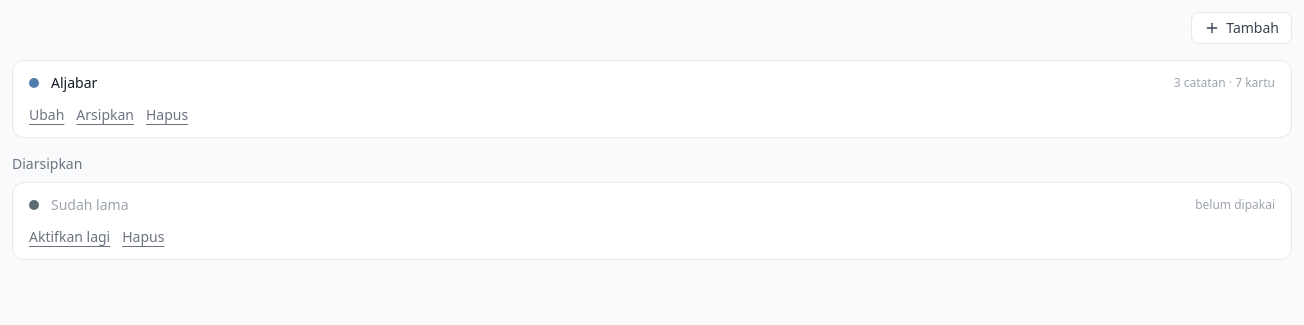
it: CategorySettings › surfaces the server refusal when a category is still in use
Click the button "Hapus" below "Aljabar" at x=167, y=115, box top-left (146, 105), bottom-right (188, 125)
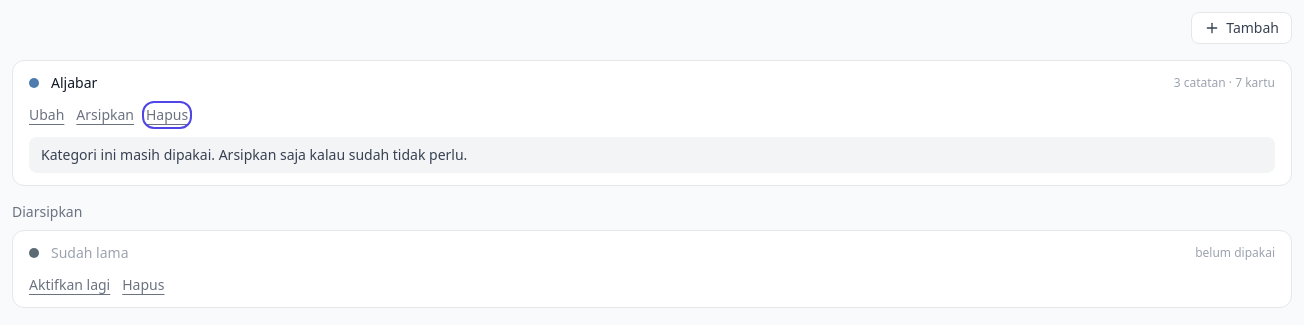
Now the text "masih dipakai" is shown, box top-left (41, 145), bottom-right (467, 164)
